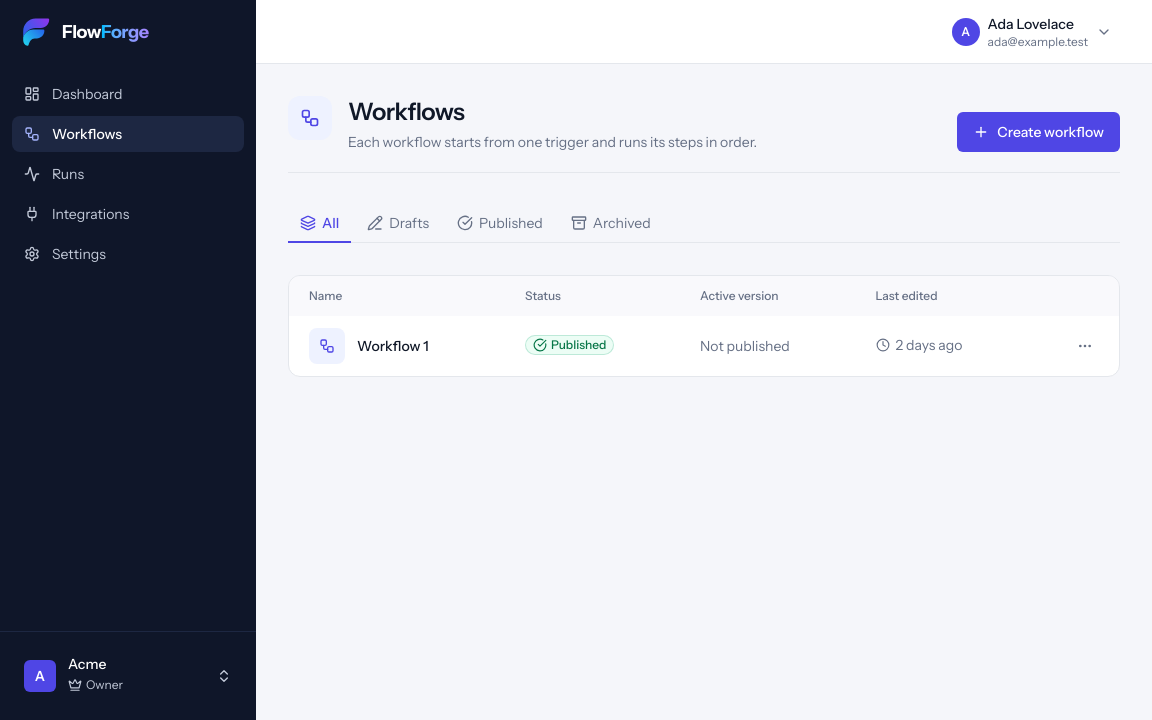
Test case: Workflows list (Part 04) › a workflow with runs cannot be deleted; the dialog offers to archive instead
What coordinates should you click on to do the following:
click the button named "Actions for Workflow 1"
I would click on:
 (1085, 346)
Its box is 1071,332 -> 1099,360.
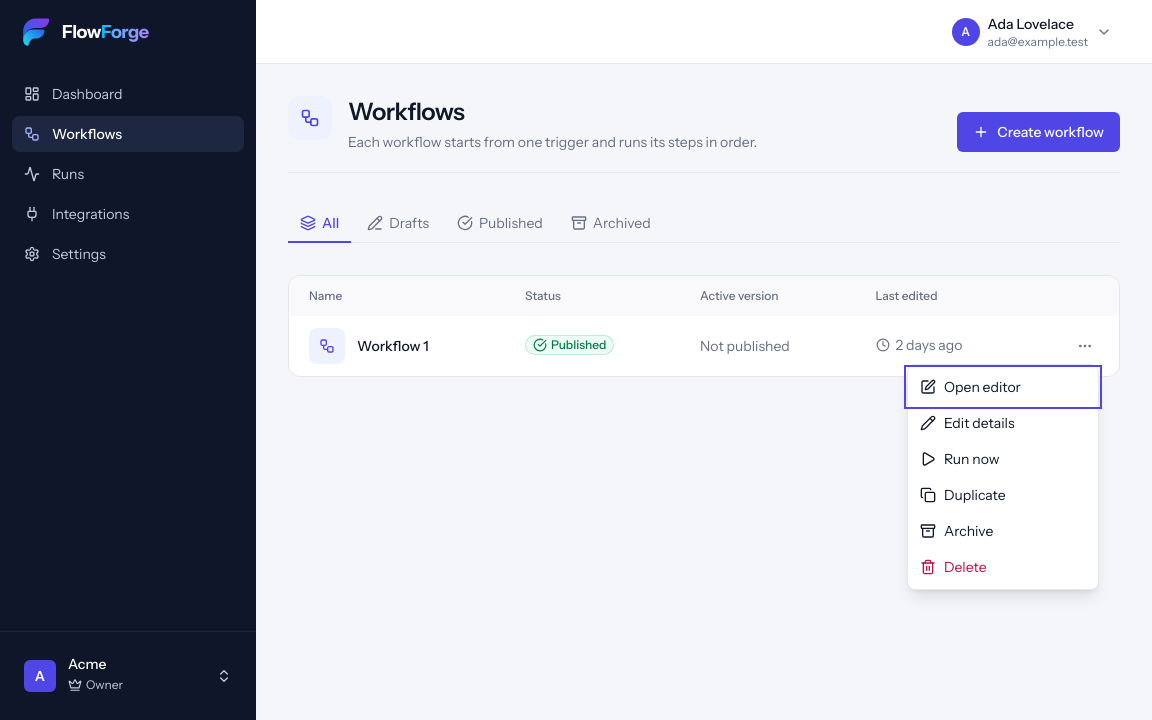
What coordinates should you click on to do the following:
click the menu item "Delete"
I would click on:
 (1003, 567)
Its box is 908,549 -> 1098,585.
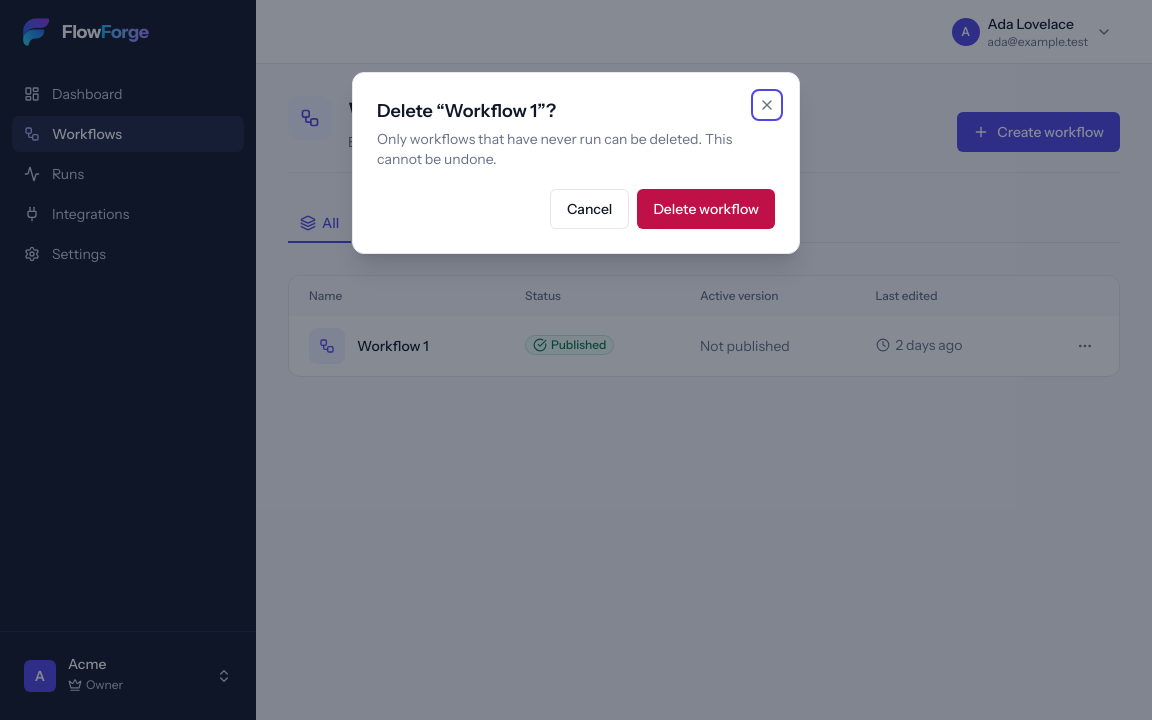
What coordinates should you click on to do the following:
click the button "Delete workflow"
I would click on:
 (706, 209)
Its box is 637,189 -> 775,229.
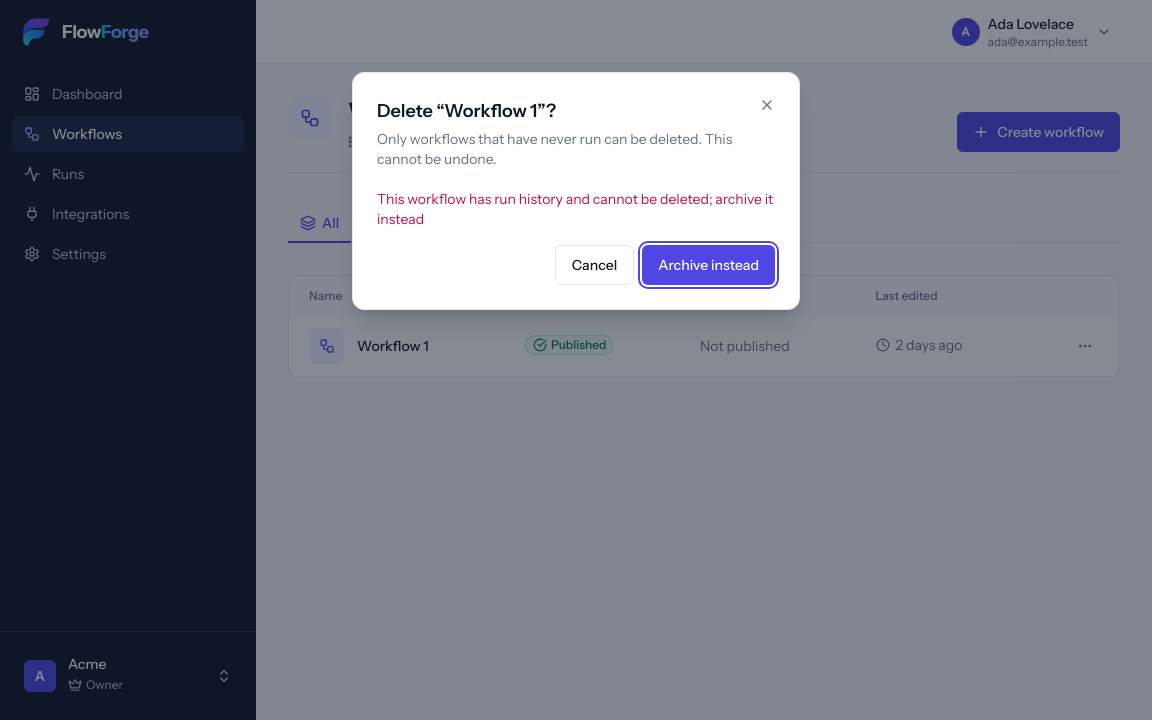
Result: the text "This workflow has run history and cannot be deleted; archive it instead" is shown at 377,189 -> 775,229
What coordinates should you click on to do the following:
click the button "Archive instead"
I would click on:
 (709, 265)
Its box is 642,245 -> 775,285.
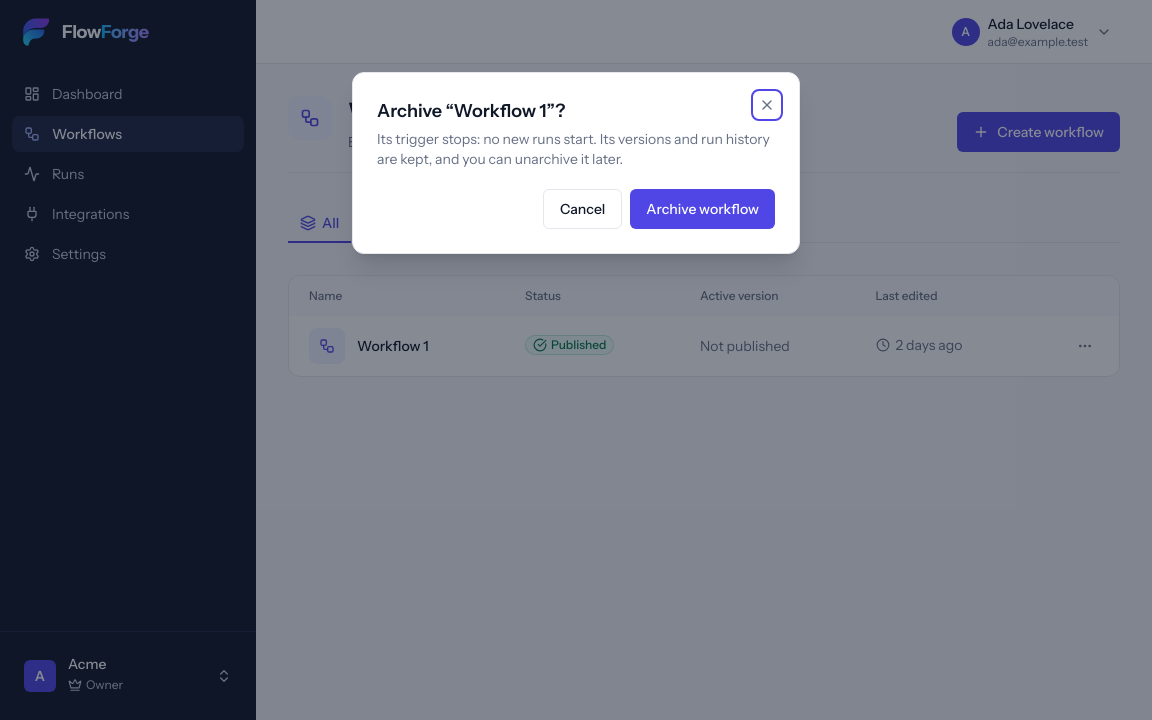
Result: the dialog "Archive “Workflow 1”?" is shown at 352,72 -> 800,254
